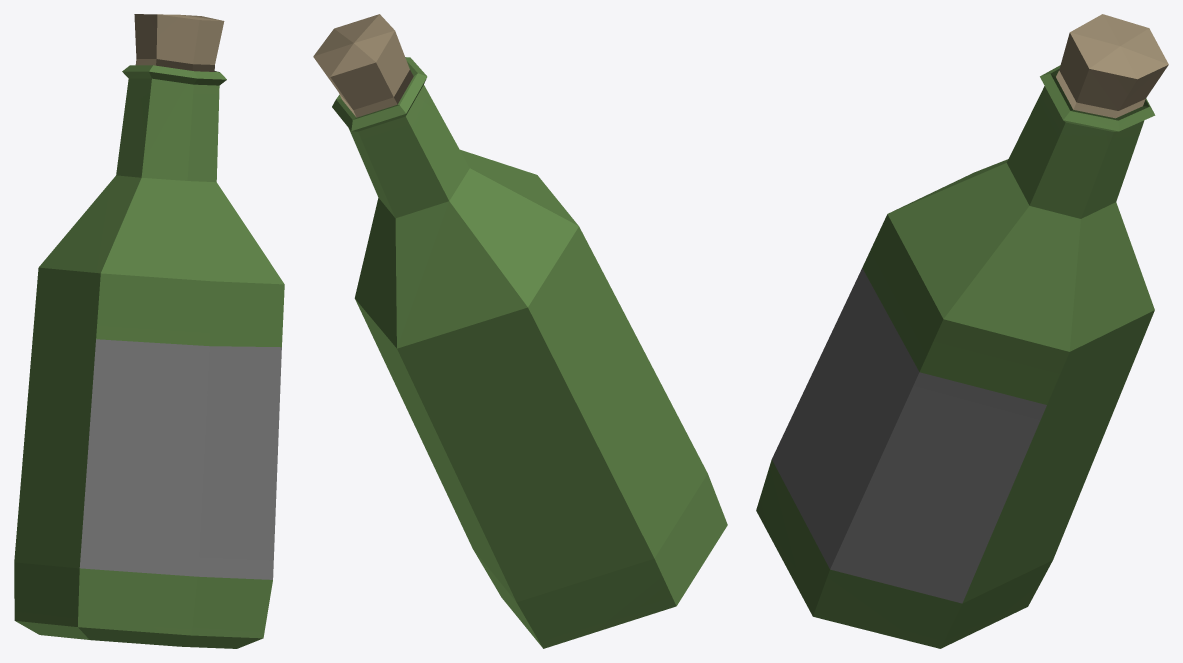
File: bottleMessage.fbx
3 renders of one model, left to right at view 1: azimuth 30°, elevation 25°; view 2: azimuth 150°, elevation 25°; view 3: azimuth 270°, elevation 25°, orthographic. The views are drawn at different scales.
Visible parts, largest first — view 1: bottleMessage; view 2: bottleMessage; view 3: bottleMessage.
Boxes of the visible parts, <box> form: bottleMessage: <box>14,14,284,648</box>; bottleMessage: <box>313,14,727,648</box>; bottleMessage: <box>756,14,1168,648</box>.
Size of the model in its own units: 0.8244 by 1.7 by 0.974.
